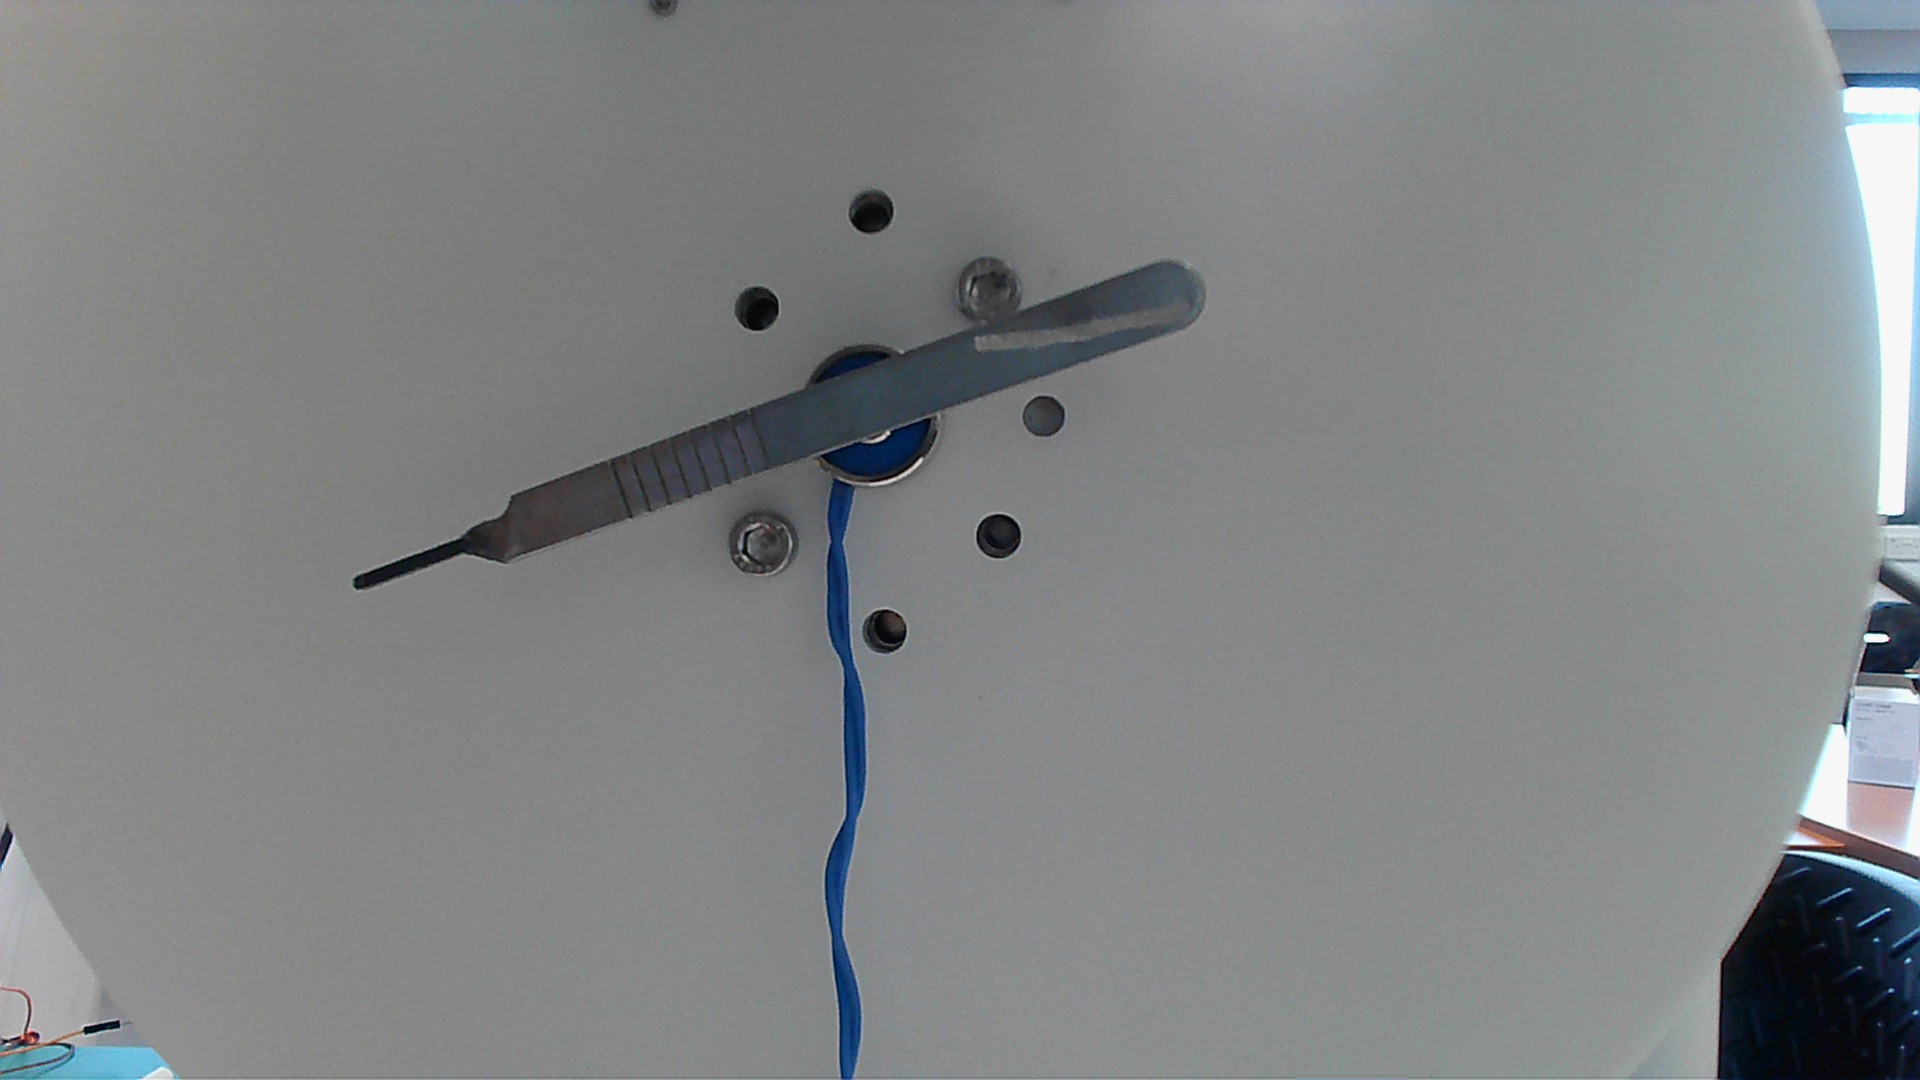Scratches: (953, 295, 1208, 355)
